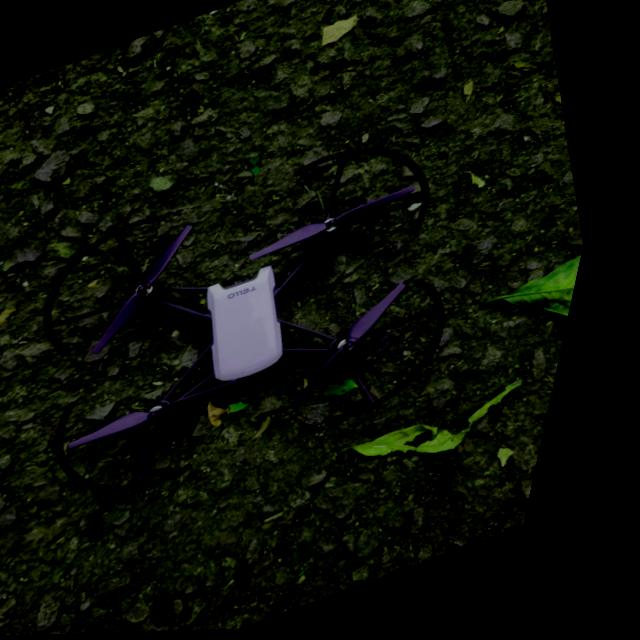drone: (46, 141, 471, 499)
